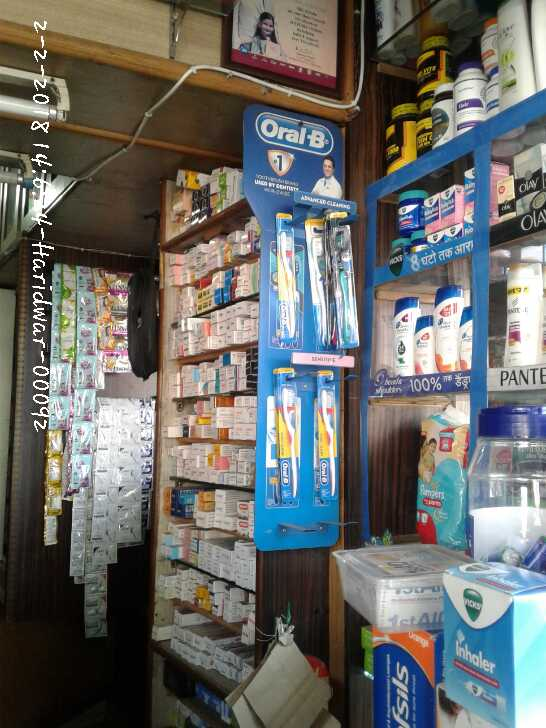beauty: (495, 258, 546, 377), (498, 134, 546, 217), (429, 278, 461, 374), (386, 298, 415, 381), (415, 313, 439, 372)
pharmacy: (403, 408, 475, 558), (390, 182, 479, 252), (314, 219, 363, 341), (313, 387, 348, 504), (272, 378, 299, 504), (275, 214, 301, 344)
